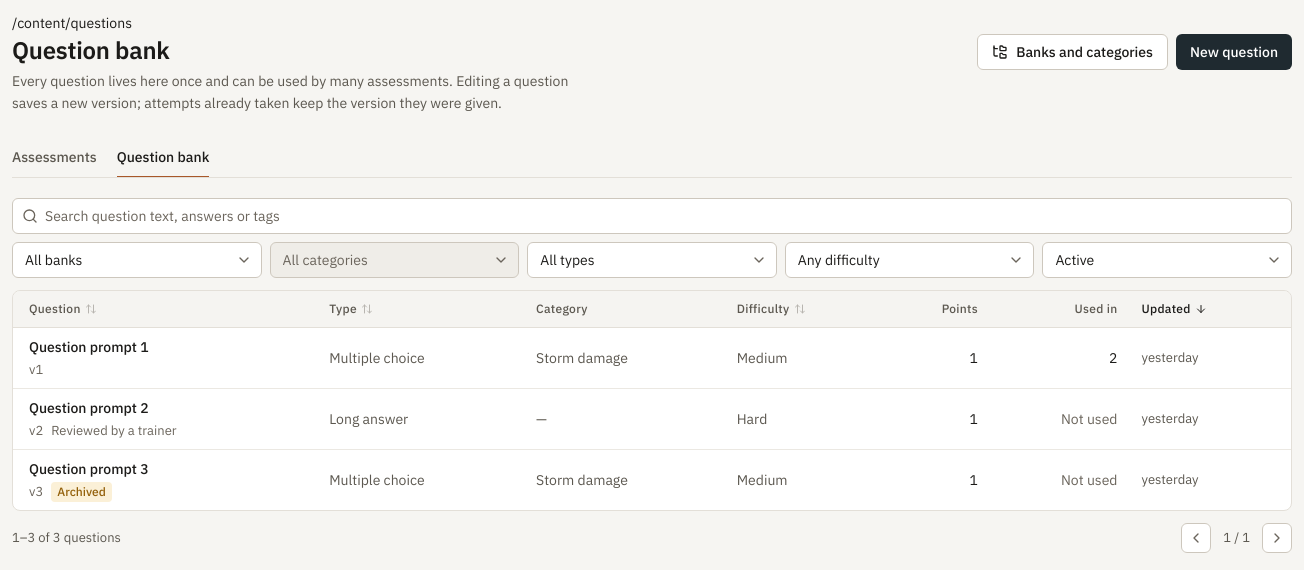
it: QuestionBankPage › puts every filter in the URL and sends it to the API
Expected: the table is shown, x1=13 y1=291 x2=1291 y2=510
Select "Ordering" in the dropdown named "Question type": (652, 260) x1=527 y1=242 x2=777 y2=278
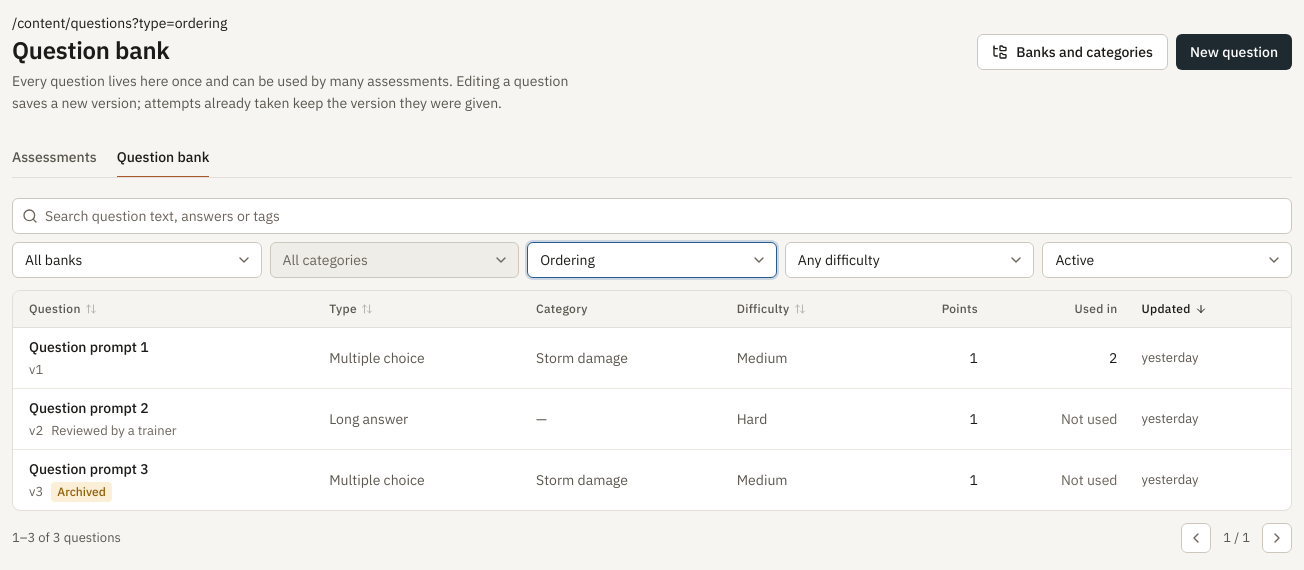
Select "Hard" in the dropdown named "Difficulty": (910, 260) x1=785 y1=242 x2=1034 y2=278
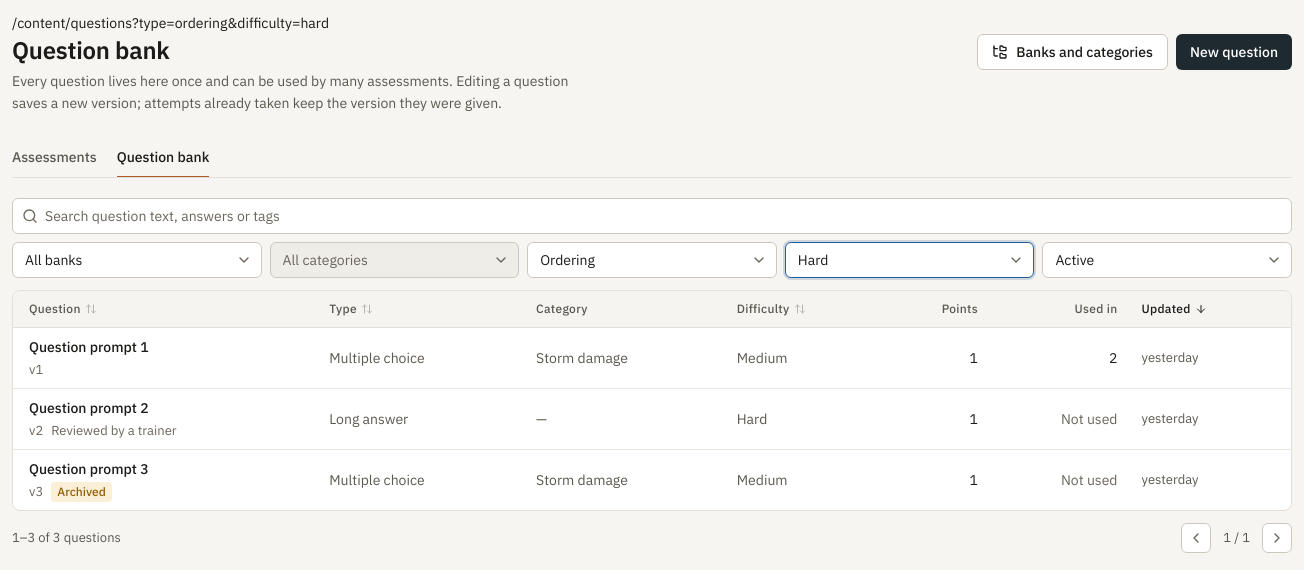
Select "Archived" in the dropdown named "Status": (1167, 260) x1=1042 y1=242 x2=1292 y2=278
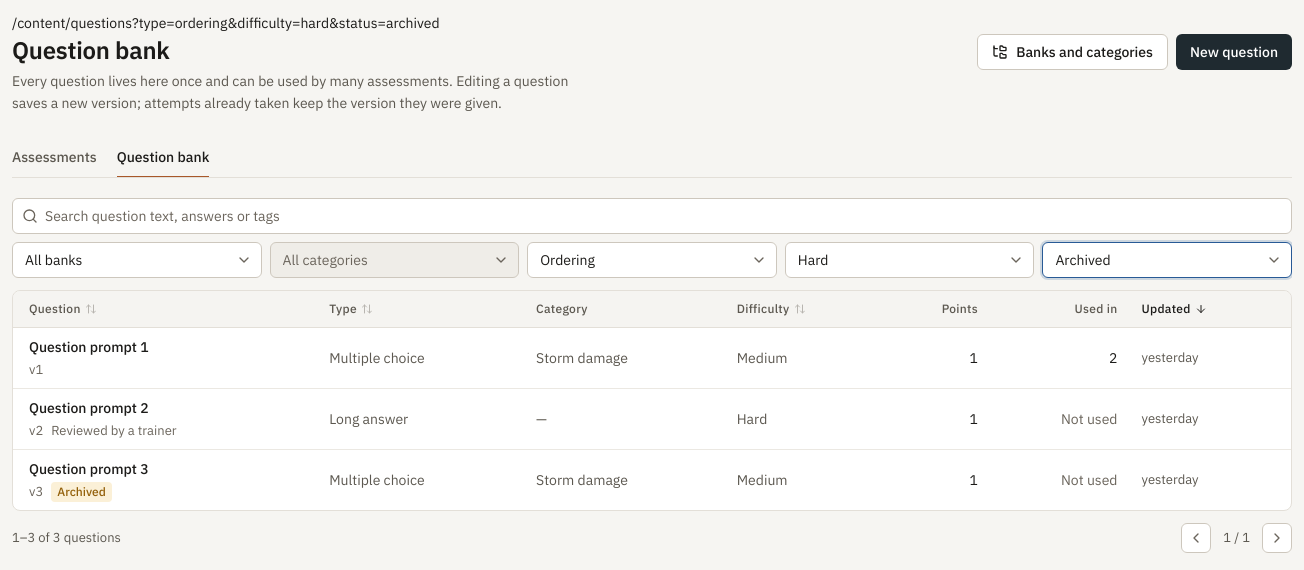
Now the text with test id "where" shows "type=ordering", box x1=12 y1=14 x2=440 y2=32
Now the text with test id "where" shows "difficulty=hard", box x1=12 y1=14 x2=440 y2=32
Now the text with test id "where" shows "status=archived", box x1=12 y1=14 x2=440 y2=32
